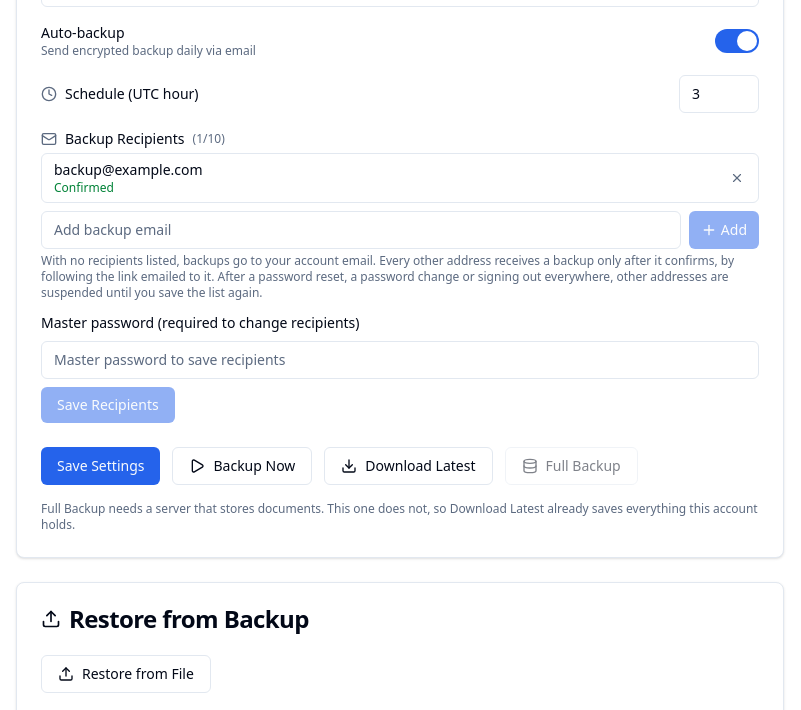
Test: BackupSettingsPage — emails, download, restore branches › keeps Save Recipients disabled until something needs saving AND the master password is typed
The width and height of the screenshot is (801, 710).
(page scrolled)
// Nothing edited, nothing waiting for the owner: disabled even with a password.
Step 1. Type "master-pw" into the password field labelled "Master password (required to change recipients)" → (400, 360), box x1=41 y1=341 x2=759 y2=379
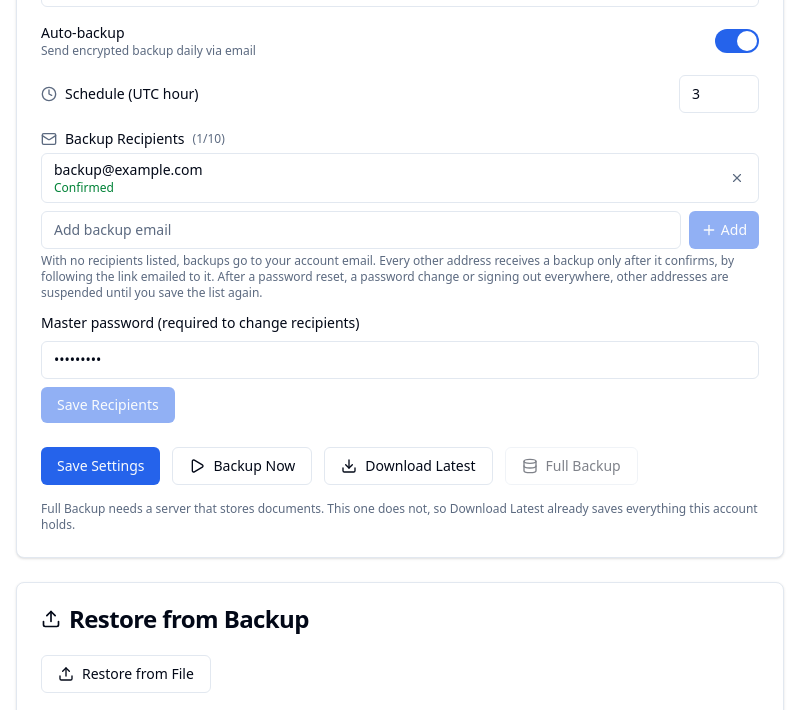
Check: the button "Save Recipients" is disabled, box x1=41 y1=387 x2=175 y2=423
// Edited but no password: disabled.
Step 2. Clear the password field labelled "Master password (required to change recipients)" → (400, 360), box x1=41 y1=341 x2=759 y2=379
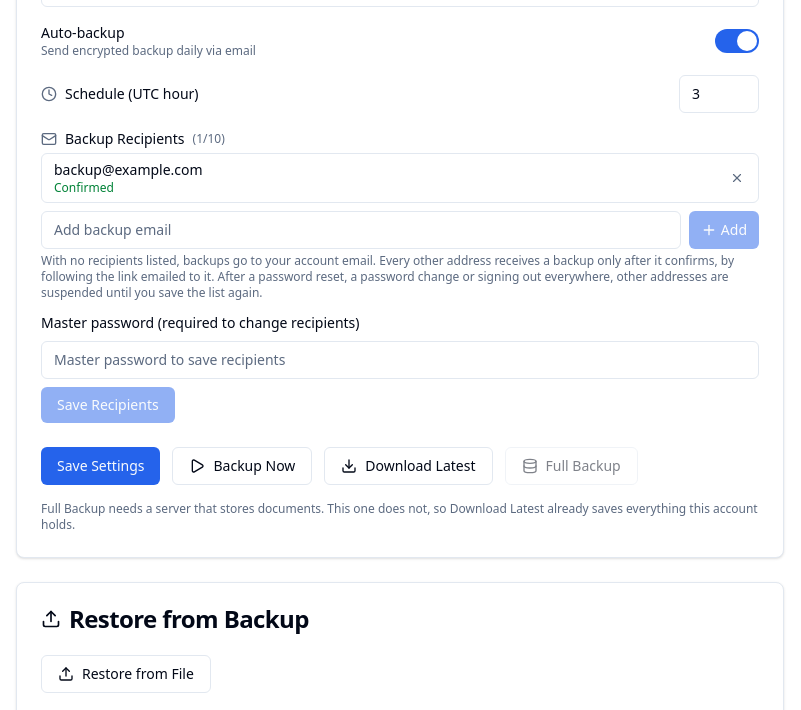
Step 3. Type "new@example.com" into the field with placeholder "Add backup email" → (361, 230), box x1=41 y1=211 x2=681 y2=249
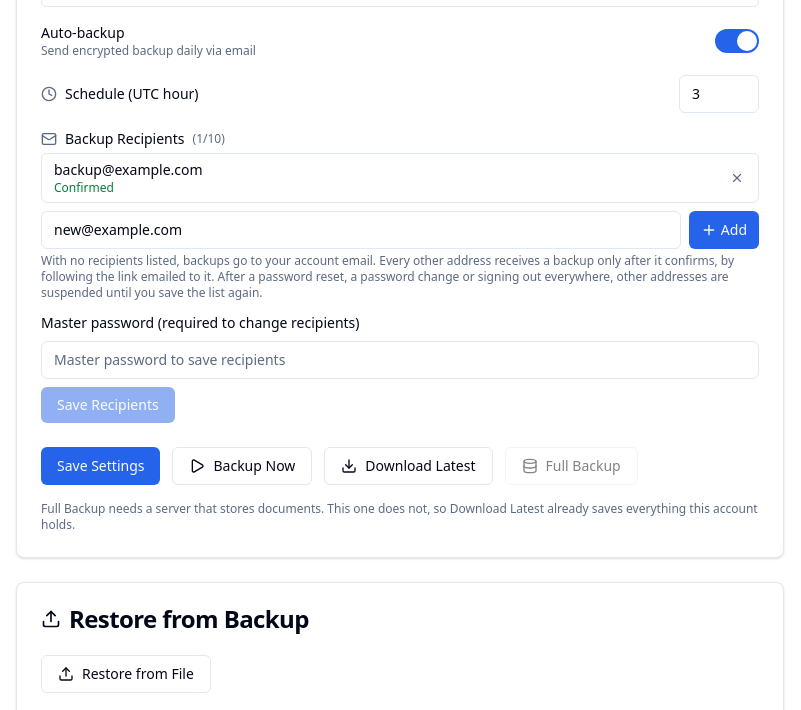
Step 4. Click the button "Add" → (724, 230), box x1=689 y1=211 x2=759 y2=249
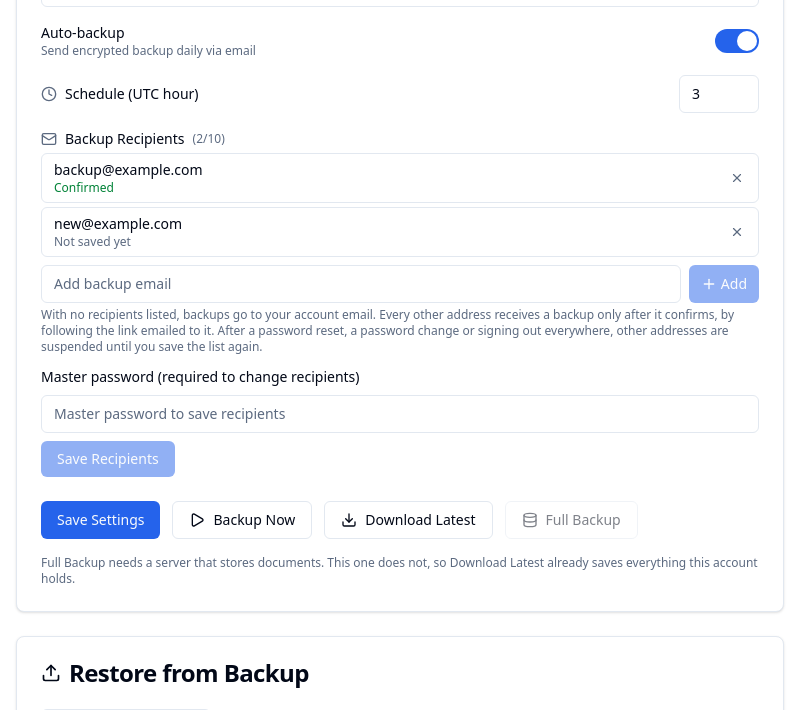
Check: the button "Save Recipients" is disabled, box x1=41 y1=441 x2=175 y2=477
// Edited and the password typed: enabled.
Step 5. Type "master-pw" into the password field labelled "Master password (required to change recipients)" → (400, 414), box x1=41 y1=395 x2=759 y2=433
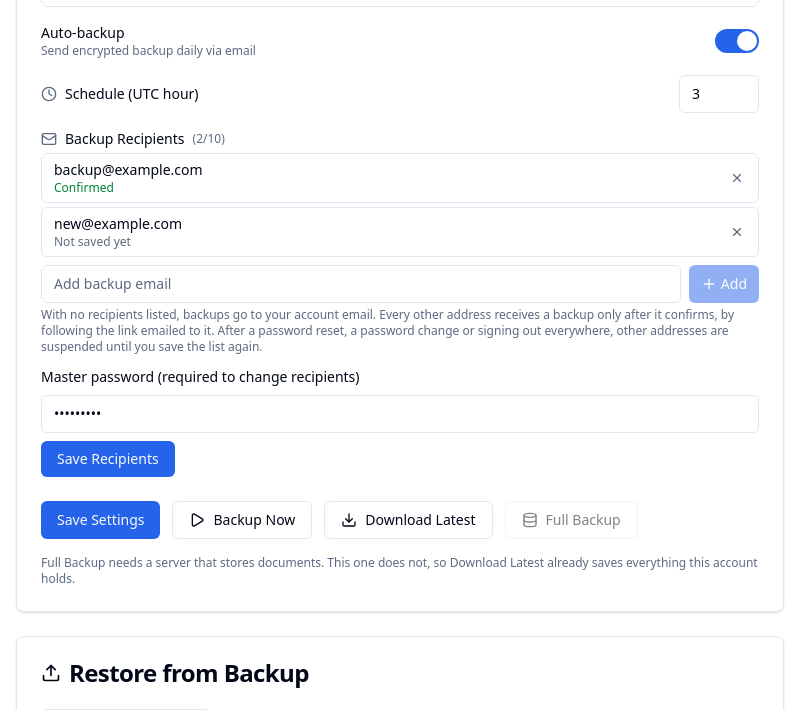
Check: the button "Save Recipients" is enabled, box x1=41 y1=441 x2=175 y2=477
